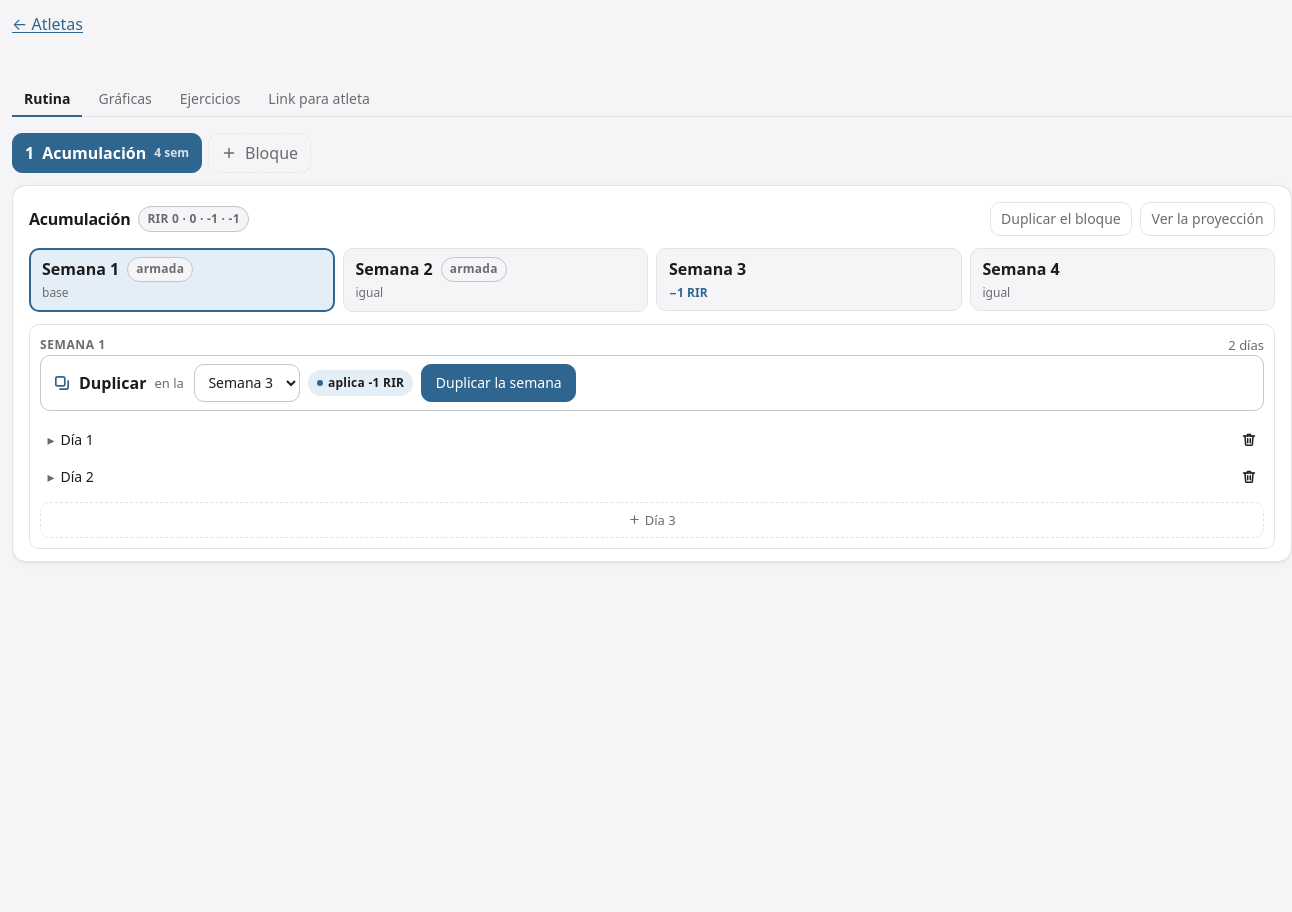
Test: el catálogo › el buscador ignora acentos y mayúsculas
Click the tab "Ejercicios". click: (210, 100)
box: [168,82,252,118]
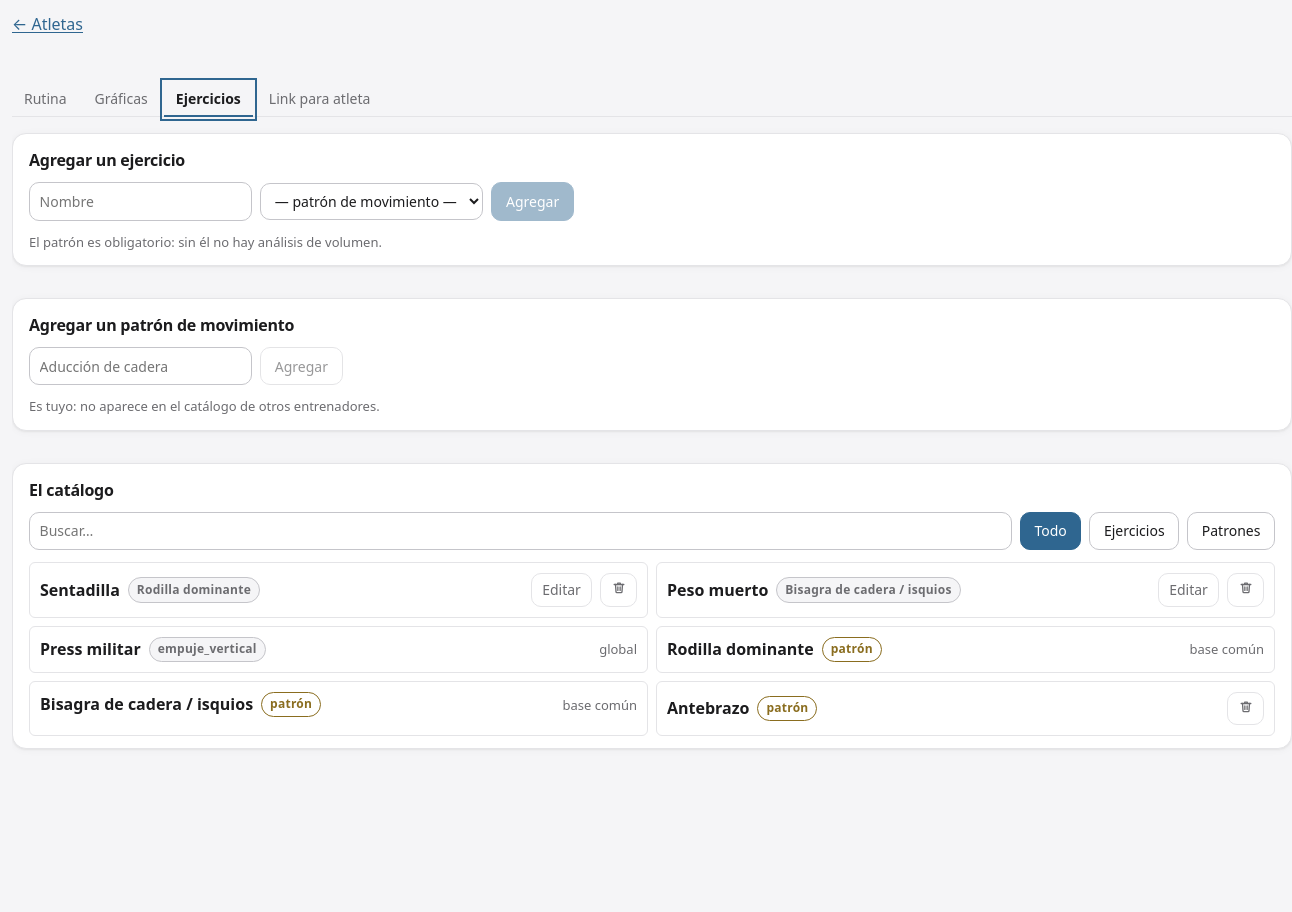
Expected: the text "Sentadilla" is shown, [40,578,120,602]
Type "PESO" into the search field named "Buscar en el catálogo". click: (520, 531)
box: [29,512,1012,550]
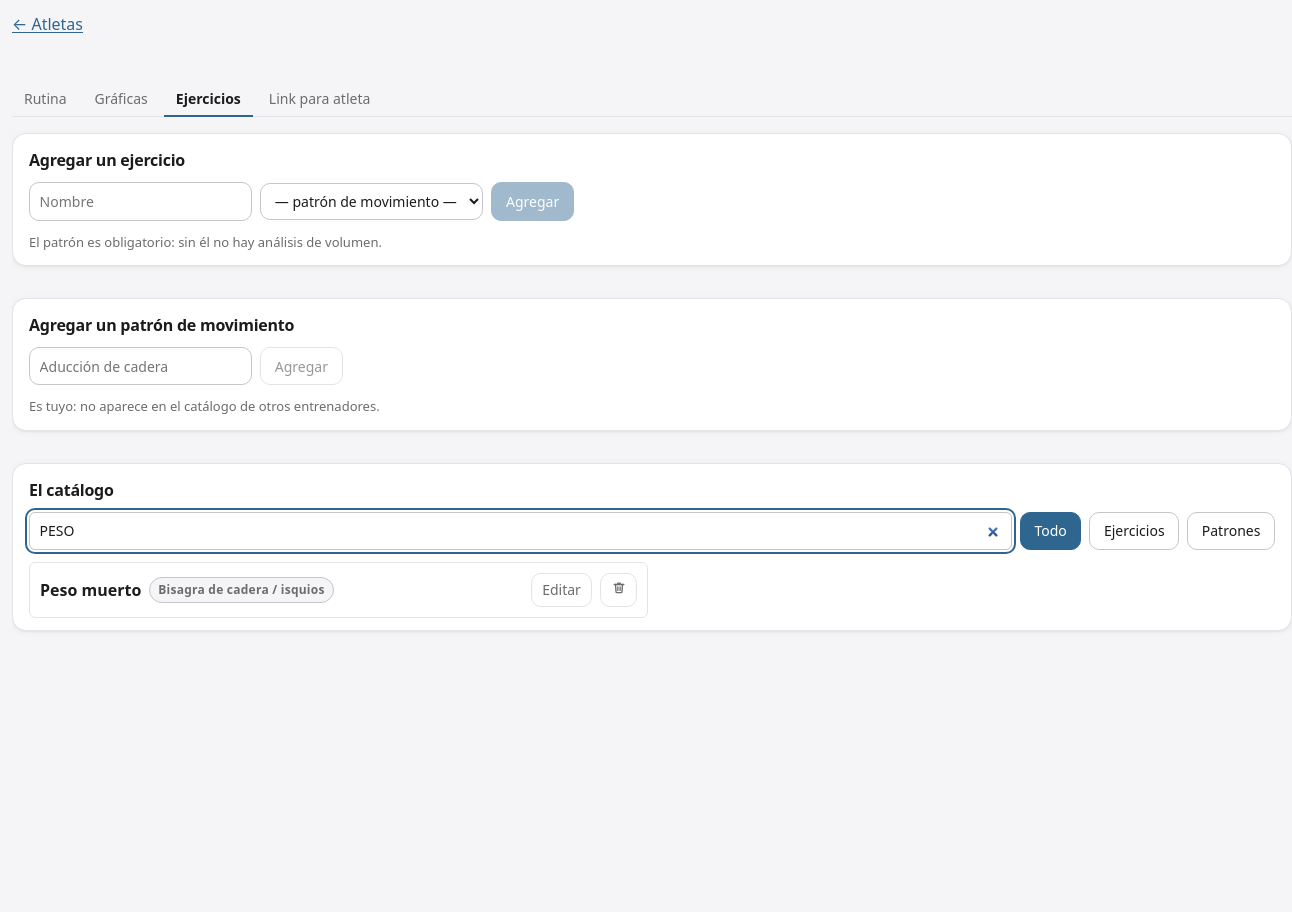
Expected: the text "Peso muerto" is shown, [40,578,141,602]
Expected: the text "Sentadilla" is gone
